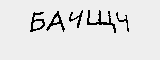М: (37, 25, 61, 40)
Т: (62, 24, 82, 40), (80, 20, 96, 37)
Ф: (119, 21, 141, 34)
Э: (20, 23, 36, 39)
Ә: (95, 20, 117, 33)
